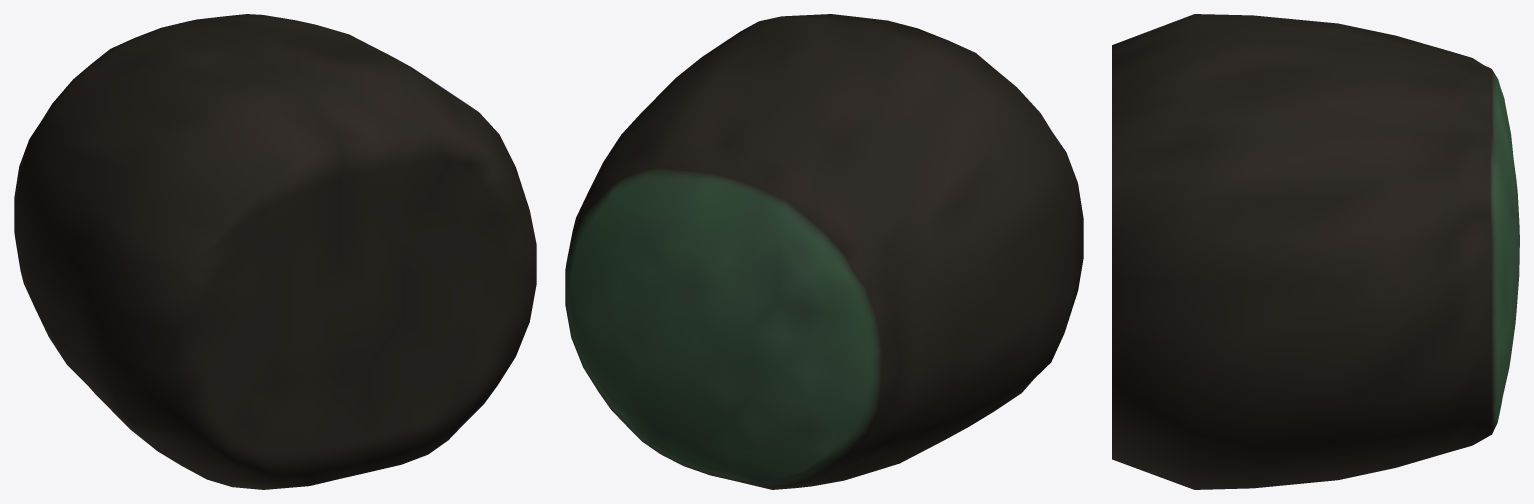
The model's file is GreenHillLarge.001.glb.
The picture shows the model from 3 angles, left to right: view 1: azimuth 30°, elevation 25°; view 2: azimuth 150°, elevation 25°; view 3: azimuth 270°, elevation 25°; orthographic projection. The views are drawn at different scales.
Visible parts, largest first — view 1: GreenHillLarge.001; view 2: GreenHillLarge.001; view 3: GreenHillLarge.001.
Boxes of the visible parts, x1,y1,x2,y2 form: GreenHillLarge.001: (14, 14, 536, 489); GreenHillLarge.001: (565, 14, 1083, 489); GreenHillLarge.001: (1112, 14, 1519, 489).
Bounding box in the file's own units: 2732 × 2472 × 2217.
